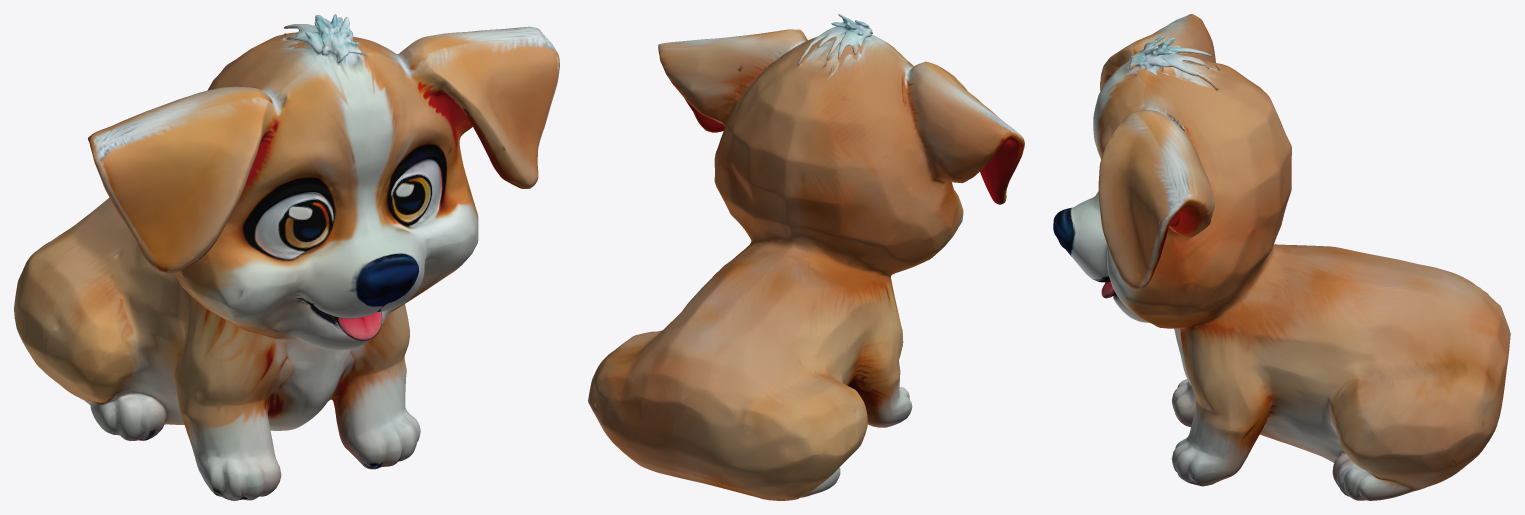
Rendered from pet.glb.
3 views of the same model, side by side, from view 1: azimuth 30°, elevation 25°; view 2: azimuth 150°, elevation 25°; view 3: azimuth 270°, elevation 25° (orthographic). The views are drawn at different scales.
Visible parts, largest first — view 1: texture_v100.001; view 2: texture_v100.001; view 3: texture_v100.001.
Boxes of the visible parts, x1=… form: texture_v100.001: x1=14, y1=14, x2=559, y2=500; texture_v100.001: x1=588, y1=14, x2=1024, y2=500; texture_v100.001: x1=1053, y1=14, x2=1510, y2=500.
Bounding box in the file's own units: 0.9372 × 0.9537 × 0.9449.
Materials: 1 (1 with a texture image).
